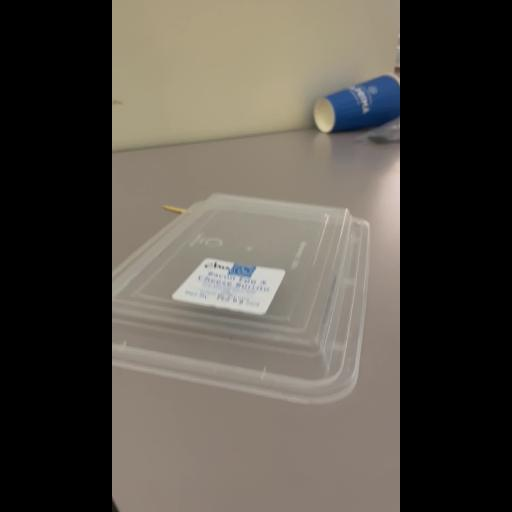rigid_plastic_lid: (112, 184, 400, 416)
